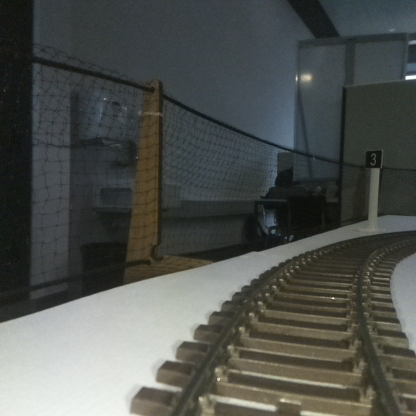black-info-3: (365, 150, 381, 229)
